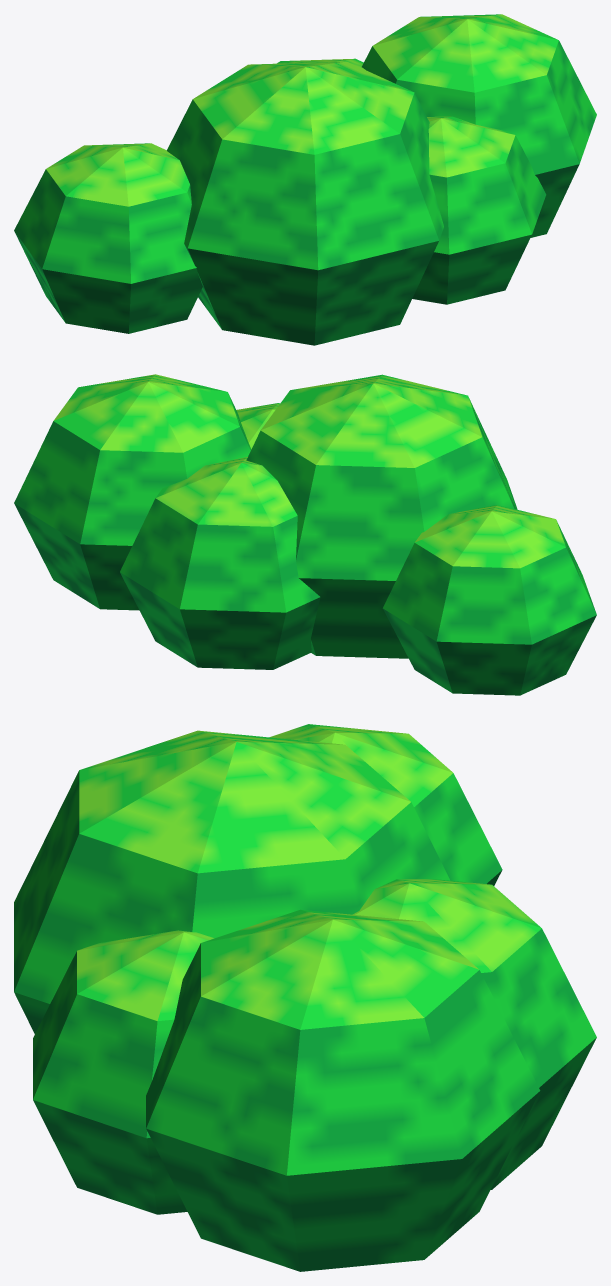
Rendered from Bushes.fbx.
3 renders of one model, top to bottom at view 1: azimuth 30°, elevation 25°; view 2: azimuth 150°, elevation 25°; view 3: azimuth 270°, elevation 25°, orthographic. The views are drawn at different scales.
Parts seen in each view (by area): view 1: sphere_1, sphere, sphere_4, sphere_3; view 2: sphere_1, sphere_2, sphere_4, sphere, sphere_3; view 3: sphere_4, sphere_1, sphere_3, sphere_2, sphere.
Boxes of the visible parts, bbox=[...] form: sphere_1: bbox=[166, 61, 443, 345]; sphere: bbox=[14, 143, 202, 333]; sphere_4: bbox=[362, 14, 596, 237]; sphere_3: bbox=[412, 116, 546, 304]; sphere_1: bbox=[246, 374, 517, 658]; sphere_2: bbox=[120, 457, 320, 669]; sphere_4: bbox=[14, 374, 251, 610]; sphere: bbox=[382, 505, 596, 695]; sphere_3: bbox=[236, 403, 279, 449]; sphere_4: bbox=[146, 909, 540, 1271]; sphere_1: bbox=[14, 730, 450, 1033]; sphere_3: bbox=[33, 930, 214, 1214]; sphere_2: bbox=[353, 879, 596, 1189]; sphere: bbox=[270, 724, 502, 885].
Bounding box in the file's own units: 321 × 150 × 193.
Materials: 1 (1 with a texture image).
